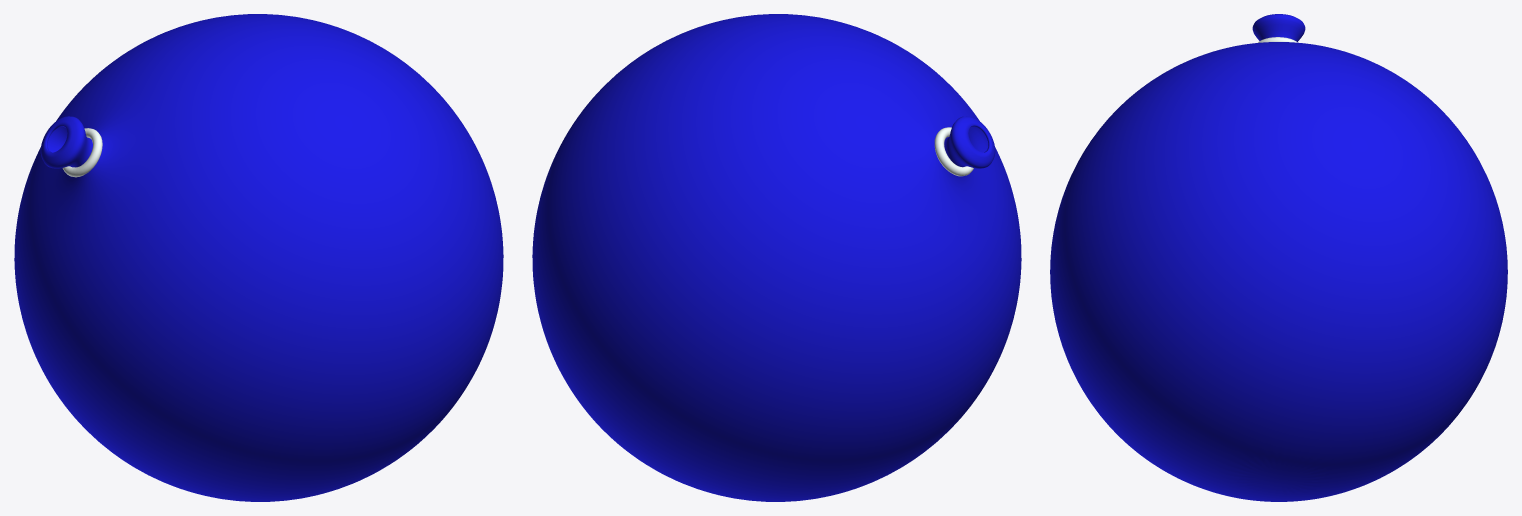
The model's file is waterbomb.fbx.
3 renders of one model, left to right at view 1: azimuth 30°, elevation 25°; view 2: azimuth 150°, elevation 25°; view 3: azimuth 270°, elevation 25°, orthographic. The views are drawn at different scales.
Visible parts, largest first — view 1: Sphere, Sphere.001; view 2: Sphere, Sphere.001; view 3: Sphere.
Part boxes in pixels (x1=…): Sphere: x1=14, y1=14, x2=503, y2=501; Sphere.001: x1=62, y1=128, x2=102, y2=177; Sphere: x1=532, y1=14, x2=1021, y2=501; Sphere.001: x1=934, y1=127, x2=973, y2=176; Sphere: x1=1050, y1=14, x2=1507, y2=501.
Bounding box in the file's own units: 199 × 198 × 197.
